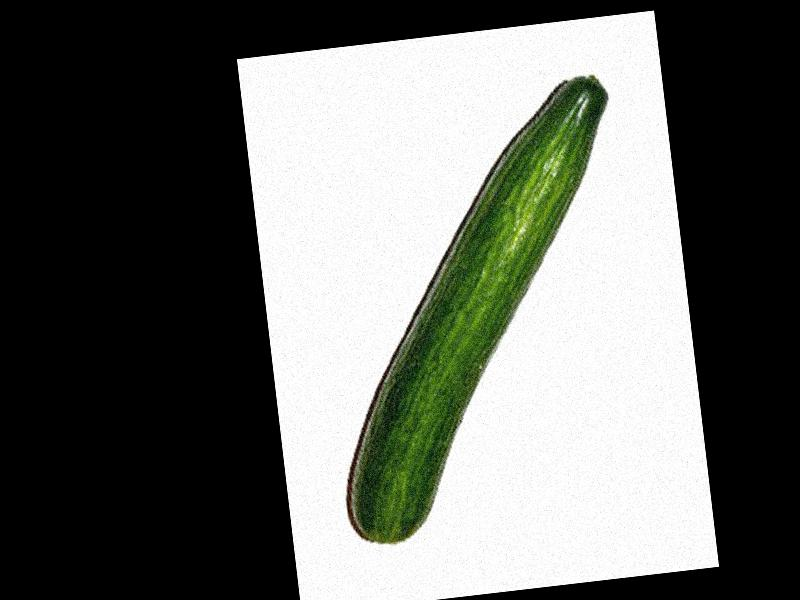Cucumber: (302, 73, 656, 547)
